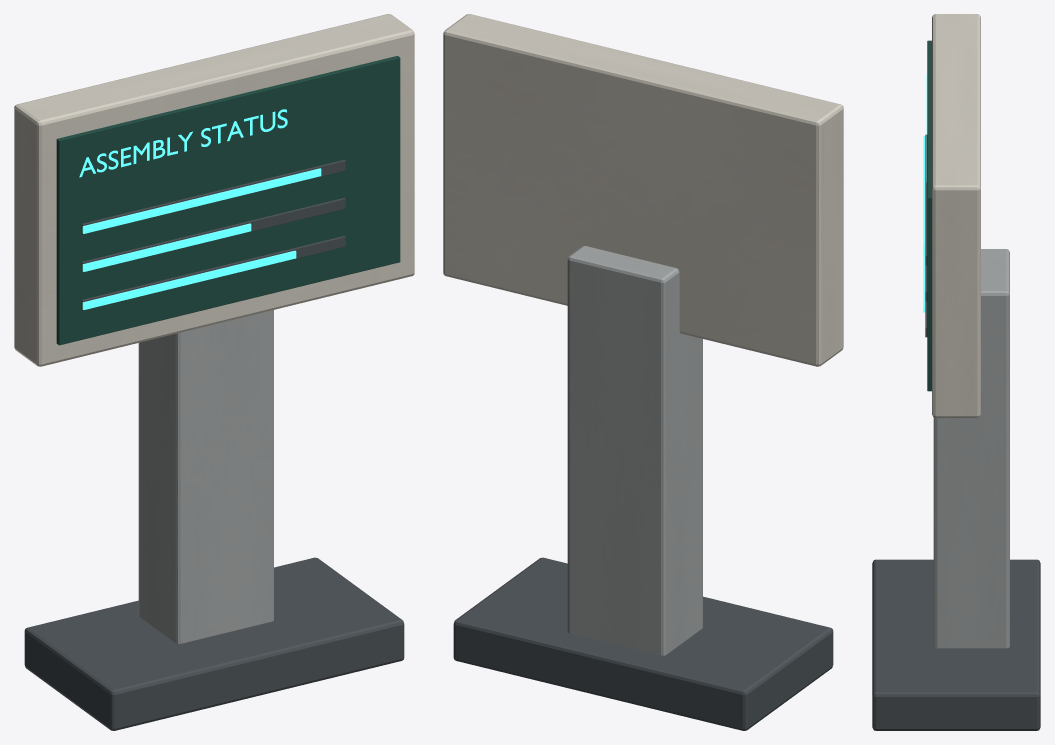
The model's file is assembly_status_display.glb.
The picture shows the model from 3 angles, left to right: view 1: azimuth 30°, elevation 25°; view 2: azimuth 150°, elevation 25°; view 3: azimuth 270°, elevation 25°; orthographic projection. The views are drawn at different scales.
Visible parts, largest first — view 1: DisplaySurface, Pedestal, MonitorHousing, Foot, StatusValue, StatusValue.002, StatusTrack.001, LABEL_ASSEMBLY_STATUS, StatusTrack.002, StatusValue.001, StatusTrack; view 2: MonitorHousing, Pedestal, Foot; view 3: Pedestal, Foot, MonitorHousing, DisplaySurface, StatusTrack, StatusValue.
Part boxes in pixels (x1,y1,x2,y2): DisplaySurface: (56, 55, 400, 345); Pedestal: (138, 310, 273, 643); MonitorHousing: (14, 14, 414, 366); Foot: (24, 557, 404, 730); StatusValue: (82, 168, 321, 233); StatusValue.002: (82, 250, 296, 309); StatusTrack.001: (81, 198, 345, 272); LABEL_ASSEMBLY_STATUS: (79, 109, 287, 177); StatusTrack.002: (81, 236, 345, 310); StatusValue.001: (82, 223, 251, 271); StatusTrack: (81, 159, 345, 234); MonitorHousing: (443, 14, 843, 366); Pedestal: (567, 246, 702, 655); Foot: (453, 557, 833, 730); Pedestal: (933, 249, 1009, 648); Foot: (872, 559, 1040, 730); MonitorHousing: (932, 14, 980, 417); DisplaySurface: (927, 40, 931, 391); StatusTrack: (925, 134, 927, 265); StatusValue: (923, 136, 925, 252).
Size of the model in its own units: 1.35 by 2.04 by 0.55.
5 materials, 2 textured.
